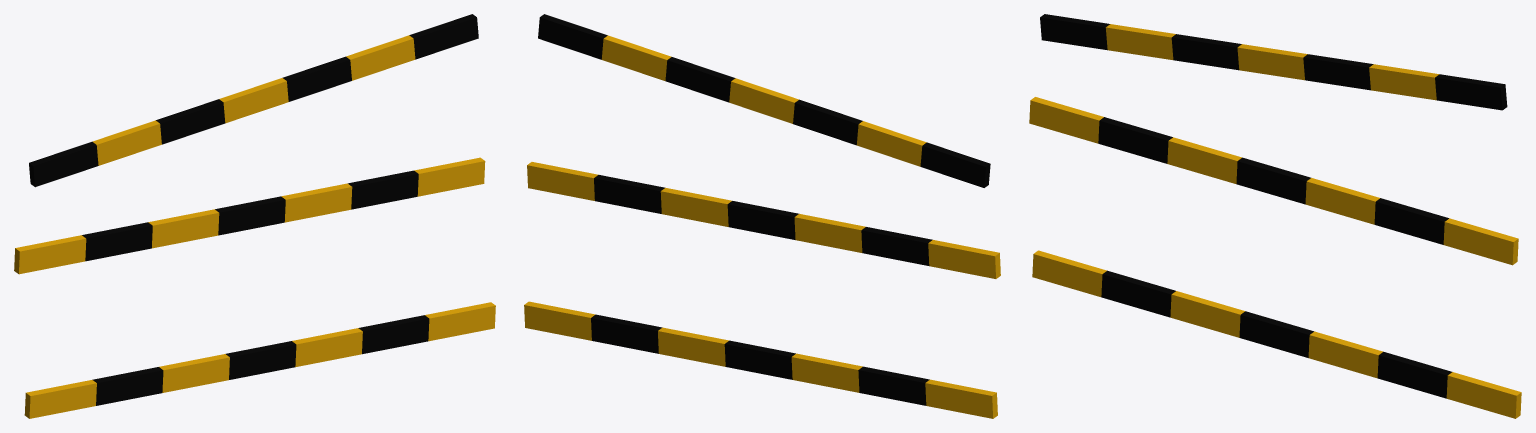
Rendered from FaixaPortão.fbx.
3 views of the same model, side by side, from view 1: azimuth 30°, elevation 25°; view 2: azimuth 150°, elevation 25°; view 3: azimuth 330°, elevation 25° (orthographic). The views are drawn at different scales.
Visible parts, largest first — view 1: FaixaPortão; view 2: FaixaPortão; view 3: FaixaPortão.
Part boxes in pixels (left/top/right/bottom): FaixaPortão: left=14, top=14, right=495, bottom=418; FaixaPortão: left=524, top=14, right=1000, bottom=418; FaixaPortão: left=1029, top=14, right=1521, bottom=418.
Size of the model in its own units: 265 by 168 by 8.35.
